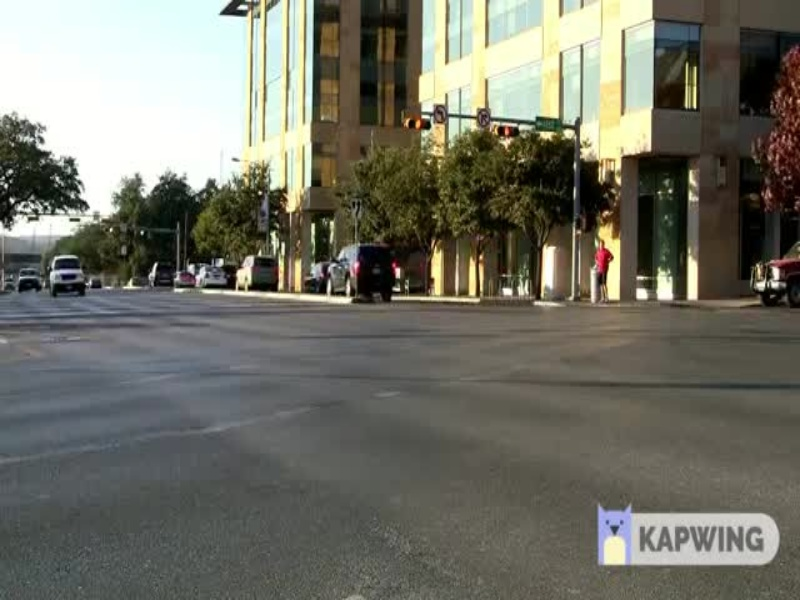suv: (320, 242, 404, 306)
